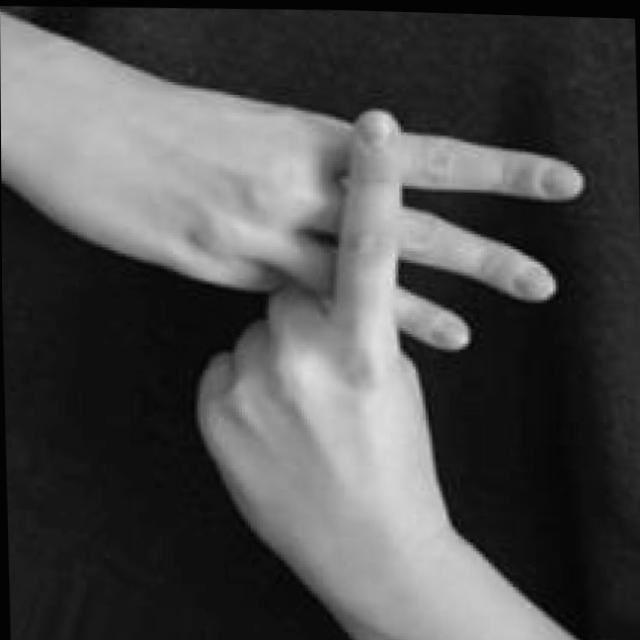E: (163, 80, 597, 593)
